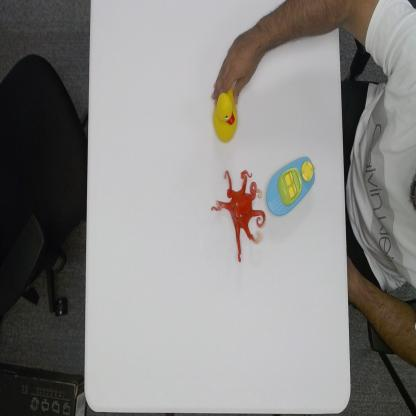Arm: (261, 0, 339, 56)
Boat: (265, 153, 317, 218)
Duck: (212, 86, 238, 145)
Hand: (211, 26, 261, 102)
Octopus: (210, 167, 267, 265)
